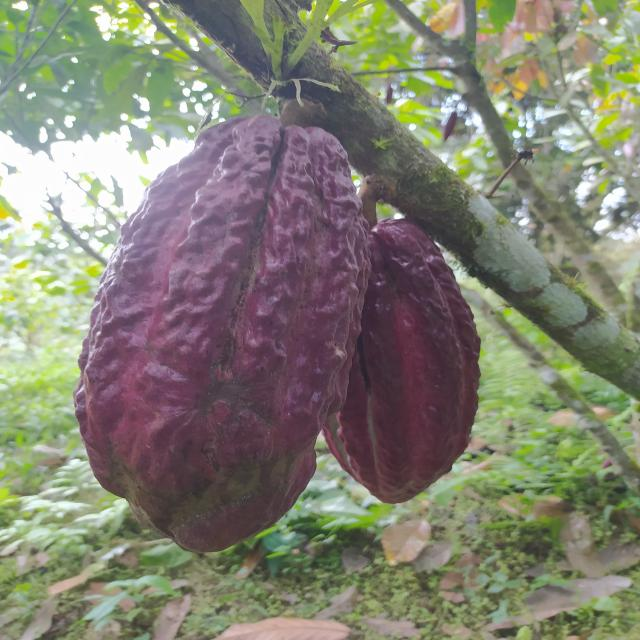Sana: (74, 112, 370, 556), (311, 216, 482, 505)
